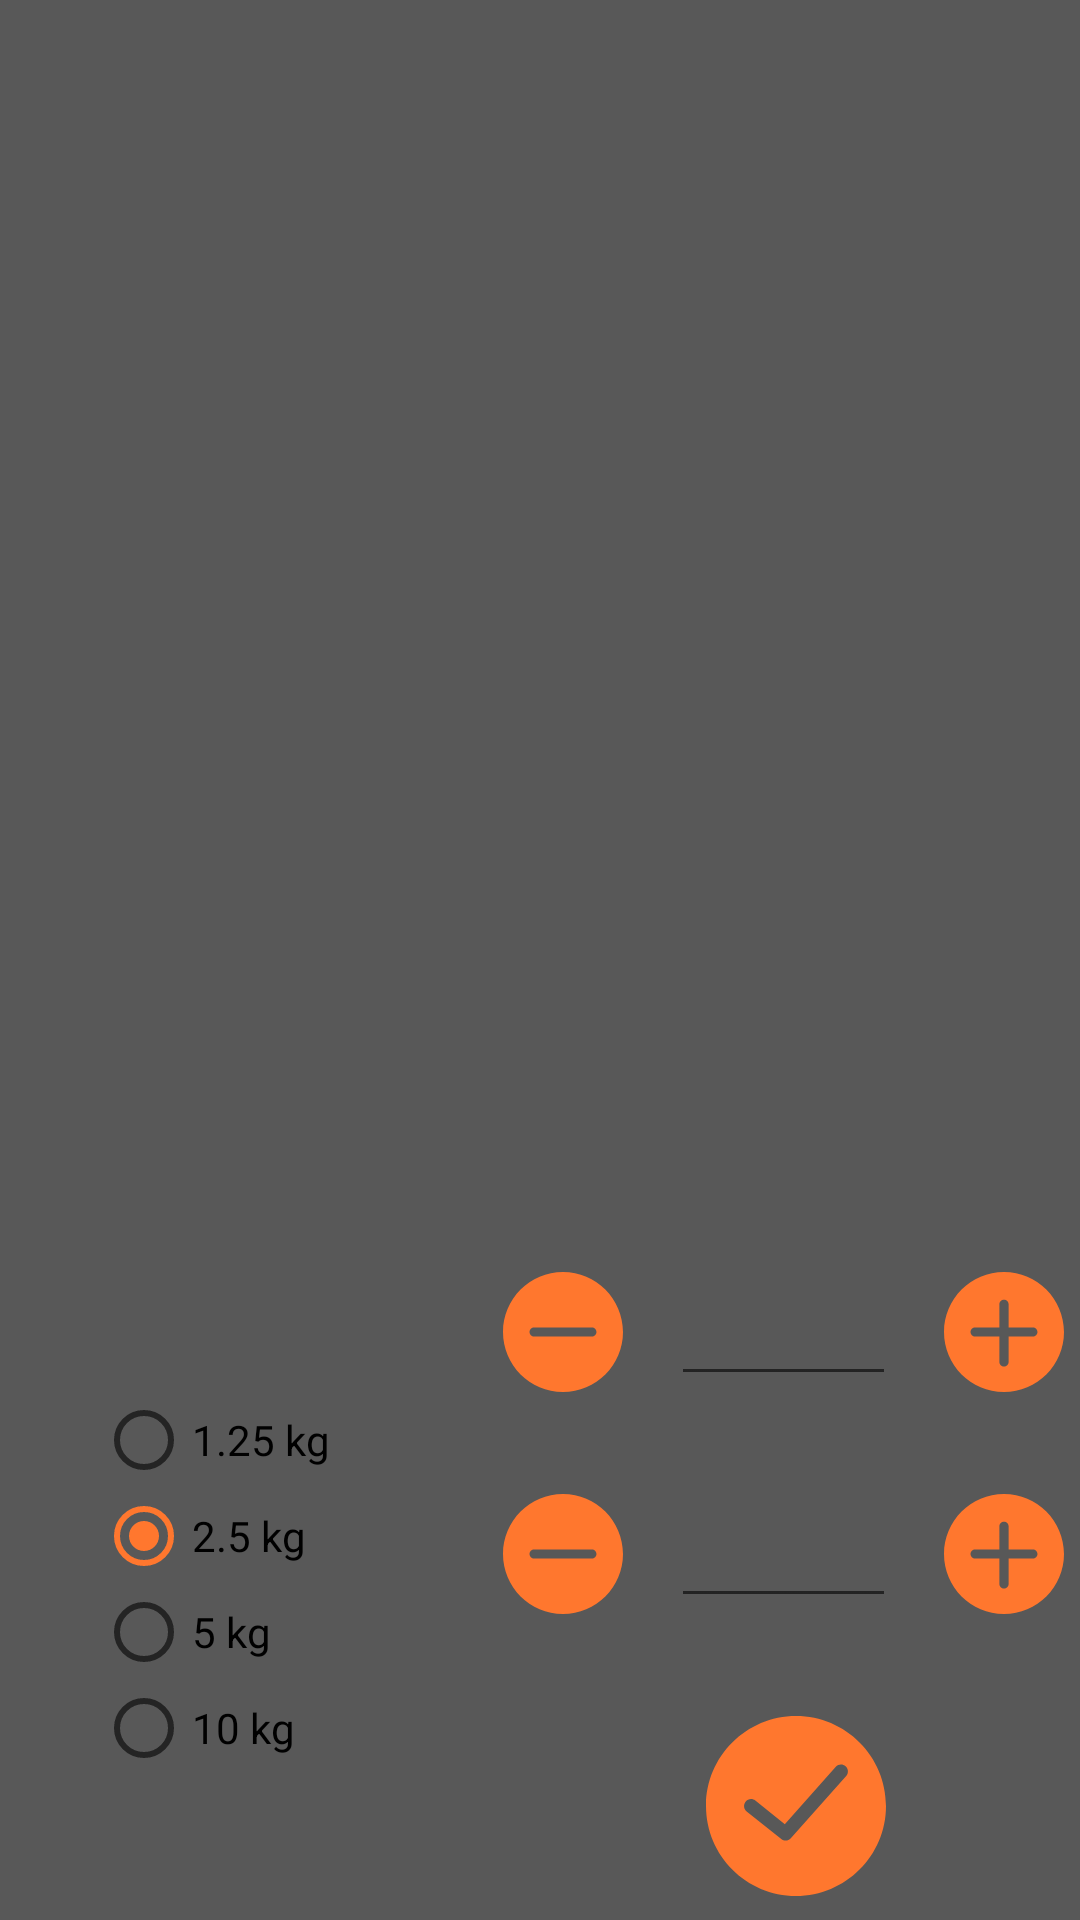

Icons on this 1080 x 1920 Android screen, each with the point to tap as (x=x, y=y):
confirm press animation: (x=796, y=1806)
minus press animation: (x=563, y=1332), (x=563, y=1554)
plus press animation: (x=1004, y=1332), (x=1004, y=1554)
